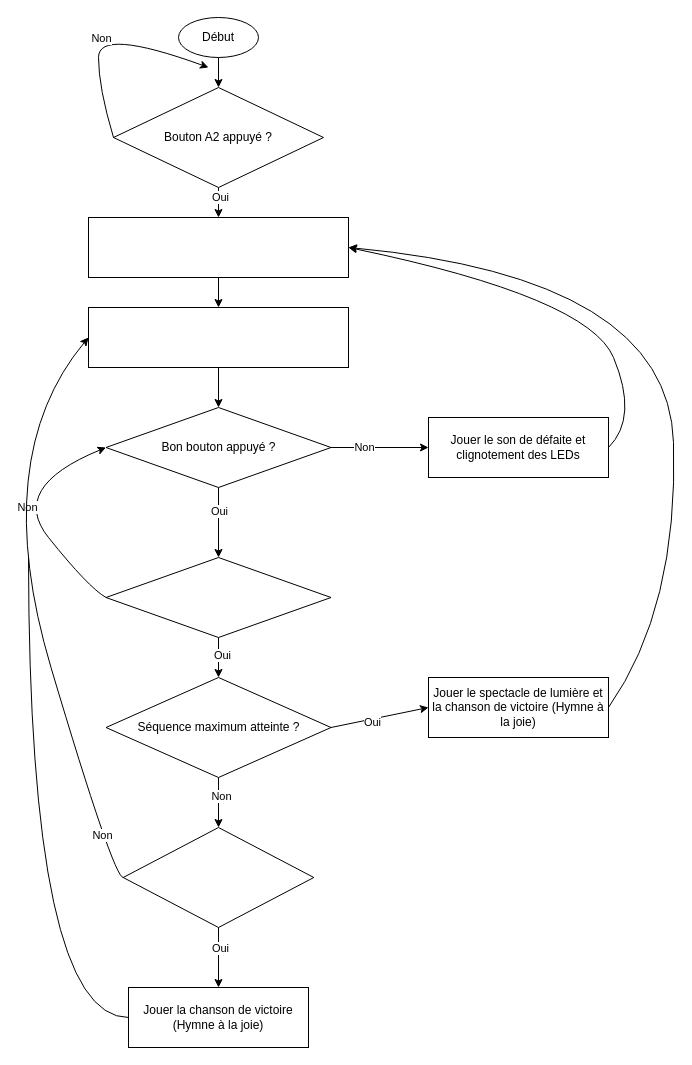
Some shapes in this 692 by 1065 pixel diagram are drawn without their labels. Each missing label, with the centre of its shape:
"Mélodie de départ et séquence remise à zéro" goes at point (218, 247).
"Rejouer la séquence (s'il y en a une) + 1 code aléatoire" goes at point (218, 337).
"Séquence 31 atteinte ?" goes at point (218, 877).
"Séquence complète ?" goes at point (218, 597).
